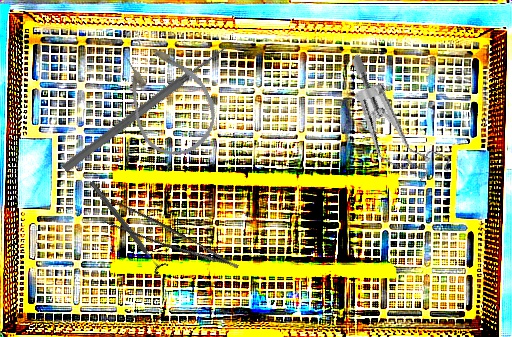Cannula: (107, 30, 229, 168)
Fixation Ring: (83, 176, 170, 276)
Pusher: (60, 42, 230, 175)
Speculum: (316, 51, 478, 194)
Tissue Forceps: (98, 194, 239, 290)
